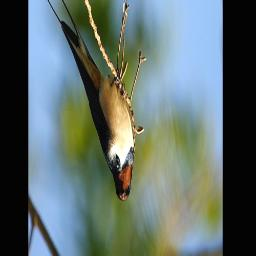Swallow: (35, 0, 134, 203)
